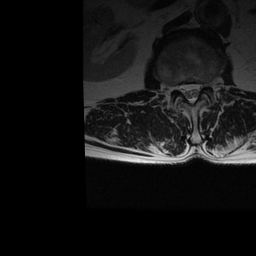CCS_normal: (186, 73, 194, 109)
LFS_stenosis: (202, 75, 211, 95)
LLS_normal: (194, 75, 202, 102)
RFS_stenosis: (170, 77, 177, 96)
RLS_normal: (178, 76, 186, 102)
